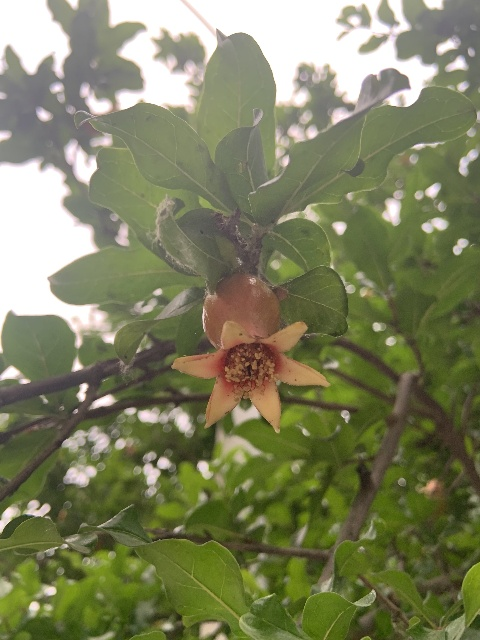early-fruit: (171, 273, 329, 434)
